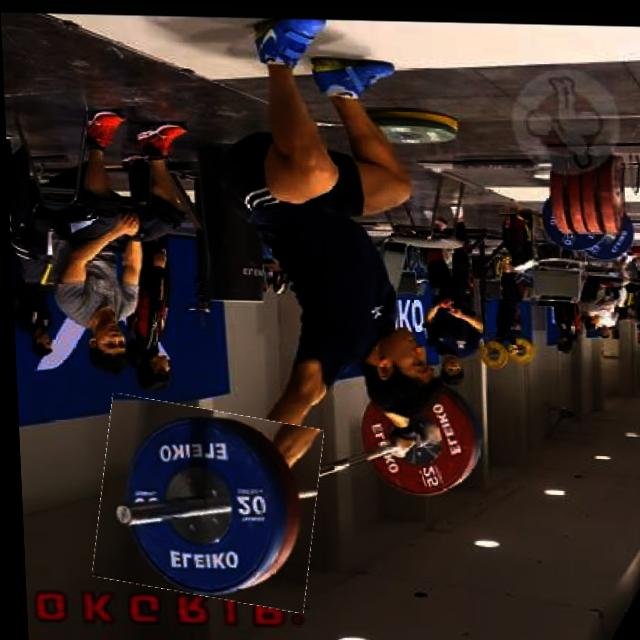barbell: (89, 401, 320, 606)
